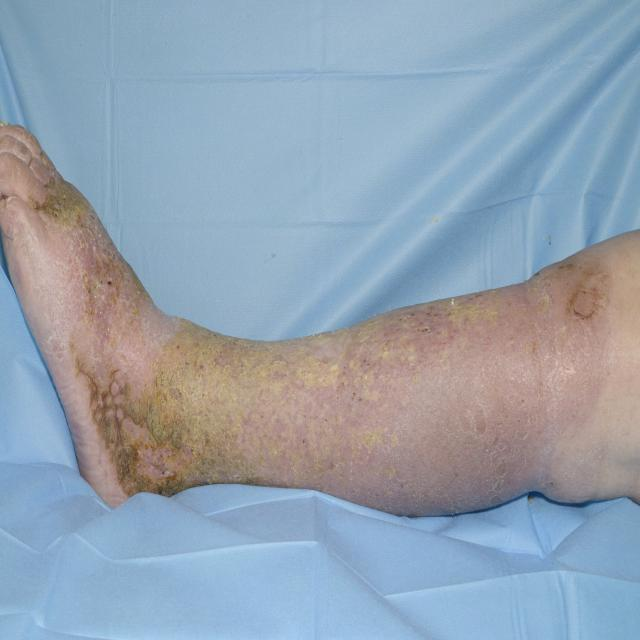wound: (41, 120, 396, 499)
